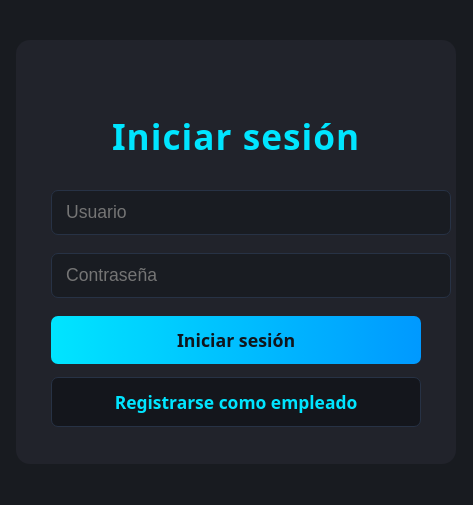
it: LoginPage › muestra error si las credenciales son inválidas
The image size is (473, 505).
Step 1. Type "malo" into the field with placeholder "Usuario" → {"x": 251, "y": 212}, box x1=51 y1=190 x2=451 y2=235
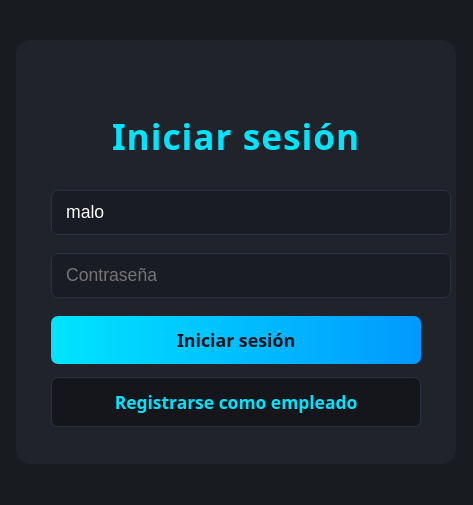
Step 2. Type "incorrecto" into the password field with placeholder "Contraseña" → {"x": 251, "y": 275}, box x1=51 y1=253 x2=451 y2=298
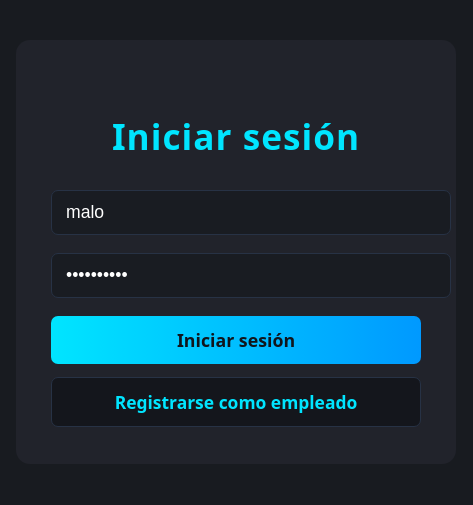
Step 3. Click the button "Iniciar sesión" → {"x": 236, "y": 340}, box x1=51 y1=316 x2=421 y2=364
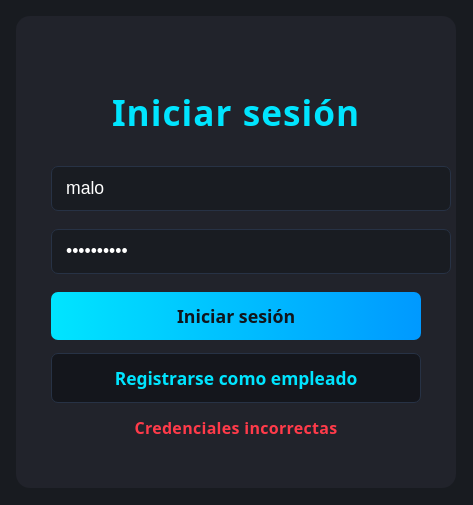
Check: the text "Credenciales incorrectas" is shown, box x1=134 y1=416 x2=338 y2=440
